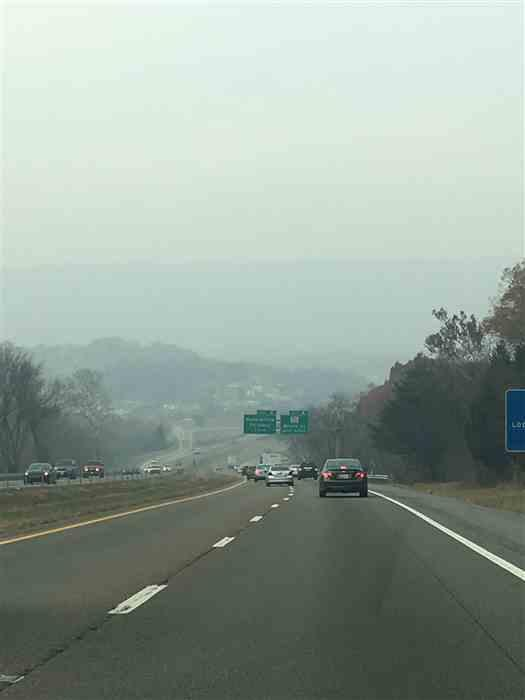car: (314, 458, 368, 498), (24, 461, 57, 485), (264, 463, 295, 487), (52, 458, 80, 480), (83, 459, 104, 479), (297, 462, 319, 480), (253, 464, 275, 482), (246, 465, 260, 480), (289, 464, 304, 477), (148, 464, 161, 474), (162, 464, 172, 472)
